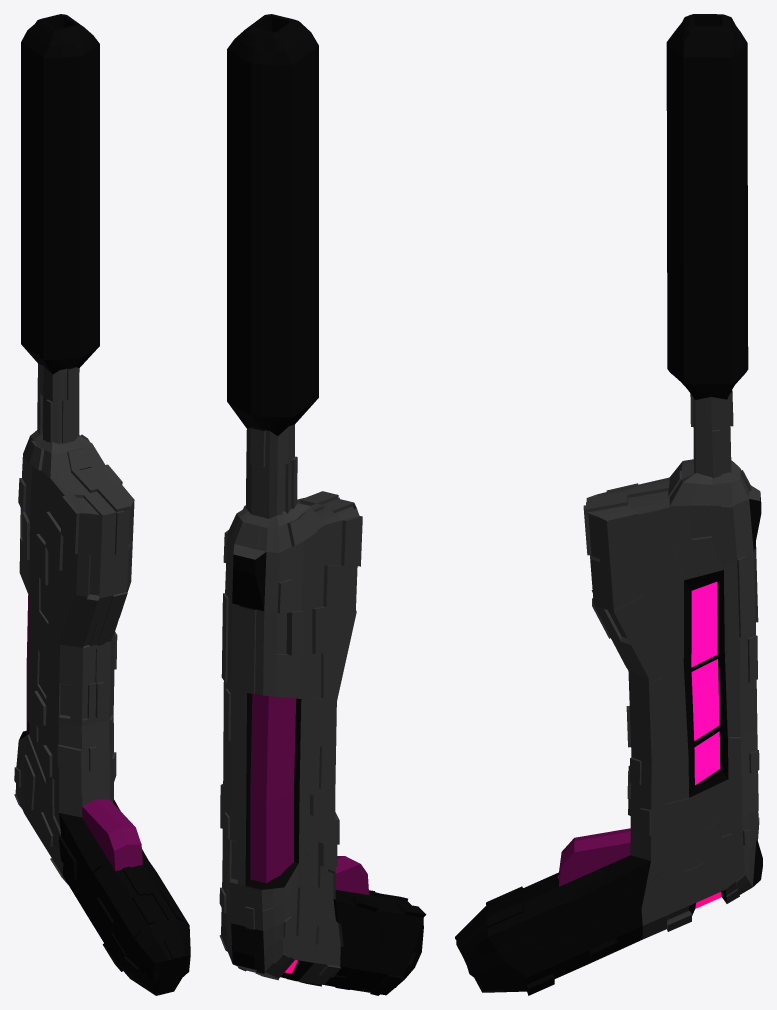
Rendered from weaponModel 1.fbx.
3 renders of one model, left to right at view 1: azimuth 30°, elevation 25°; view 2: azimuth 150°, elevation 25°; view 3: azimuth 270°, elevation 25°, orthographic. The views are drawn at different scales.
Visible parts, largest first — view 1: Gun; view 2: Gun; view 3: Gun.
Part boxes in pixels (x1=…): Gun: x1=14, y1=14, x2=190, y2=995; Gun: x1=219, y1=14, x2=426, y2=995; Gun: x1=455, y1=14, x2=762, y2=995.
Bounding box in the file's own units: 3.15 × 44.06 × 12.7.
